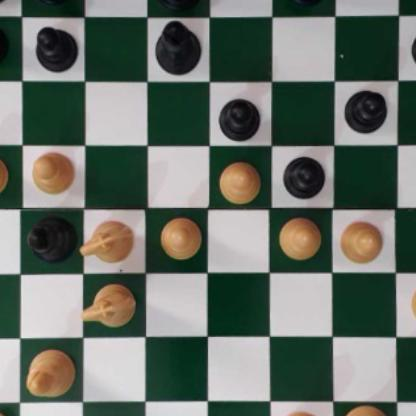black-bishop: (154, 20, 203, 76), (29, 213, 76, 263)
black-king: (153, 0, 204, 12)
black-knight: (20, 0, 74, 1)
black-pawn: (343, 87, 388, 133), (219, 94, 263, 141), (282, 153, 325, 200), (33, 23, 75, 71), (0, 19, 9, 65), (411, 23, 416, 71)
black-rook: (283, 0, 333, 4), (0, 0, 13, 4)
white-bishop: (24, 347, 76, 399)
white-king: (341, 403, 397, 416)
white-knight: (82, 282, 136, 329), (79, 219, 136, 263)
white-pawn: (338, 215, 383, 265), (30, 150, 75, 195), (217, 161, 262, 205), (278, 215, 321, 259), (158, 216, 201, 258), (408, 280, 416, 328), (0, 153, 8, 196)
white-rook: (278, 412, 328, 416), (0, 408, 13, 416)
